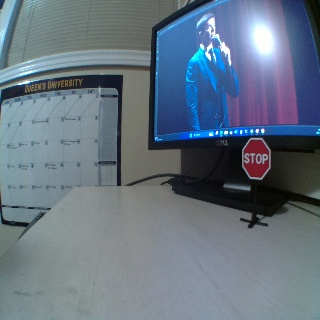sign_stop: (241, 137, 270, 178)
